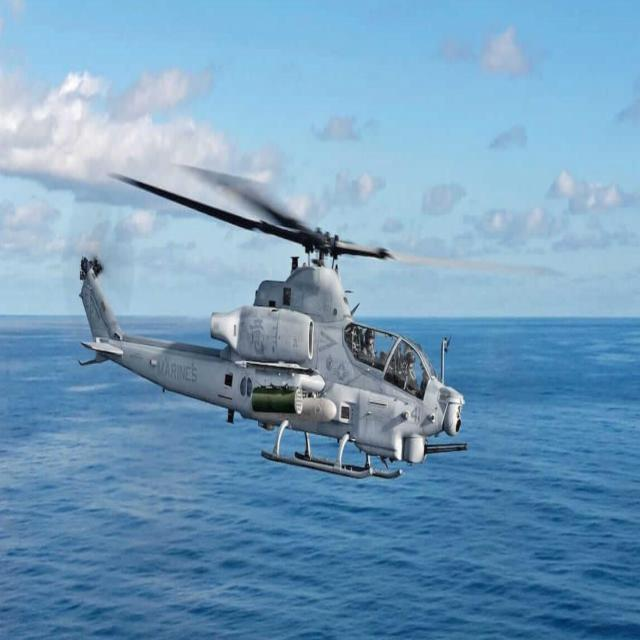MIL_HELO: (61, 146, 564, 499)
